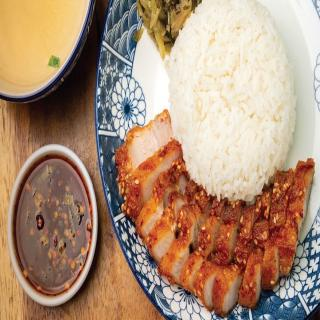carbs: (175, 3, 291, 190)
fried_pork_rice: (121, 6, 307, 302)
meat: (140, 191, 306, 302), (119, 119, 177, 178)
veg: (136, 1, 195, 42)
